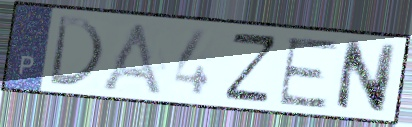4: (171, 26, 212, 100)
A: (96, 20, 166, 99)
D: (45, 13, 107, 90)
E: (275, 35, 342, 110)
N: (332, 37, 400, 115)
Z: (222, 30, 279, 104)
